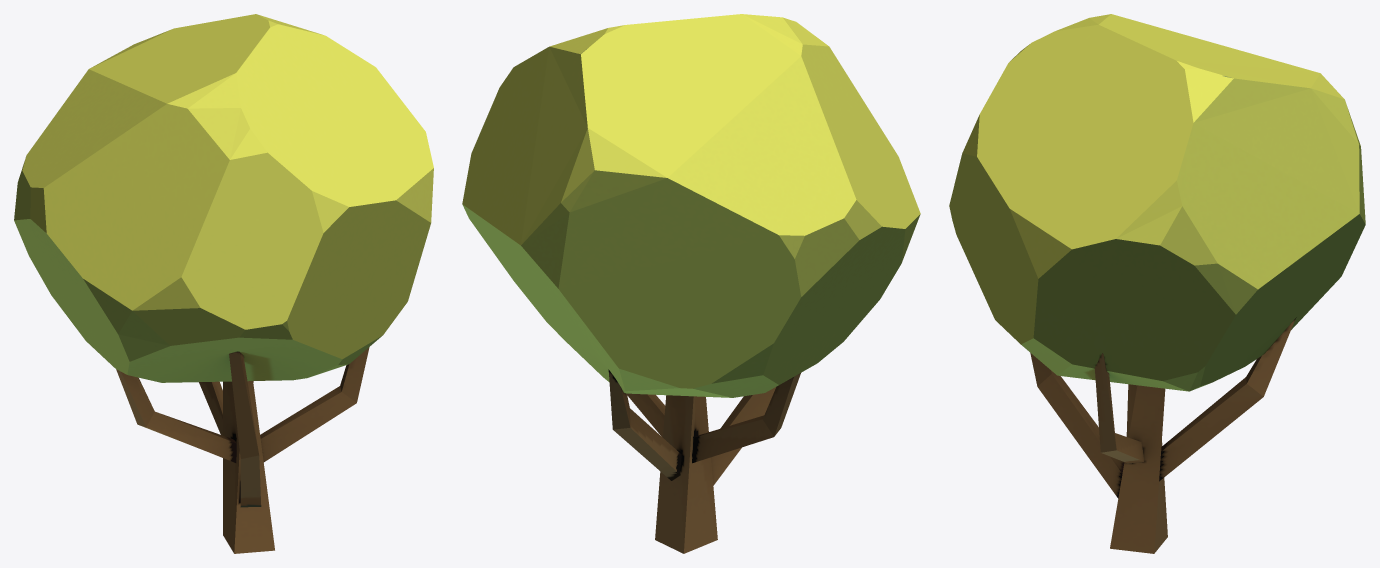
The model's file is PUSHILIN_bush.obj.
3 renders of one model, left to right at view 1: azimuth 30°, elevation 25°; view 2: azimuth 150°, elevation 25°; view 3: azimuth 270°, elevation 25°, orthographic. The views are drawn at different scales.
Visible parts, largest first — view 1: bush; view 2: bush; view 3: bush.
Part boxes in pixels (x1,y1,x2,y2): bush: (14,14,433,553); bush: (462,14,920,553); bush: (949,14,1365,553).
Bounding box in the file's own units: 1.35 × 1.74 × 1.3.
1 material, 1 textured.
